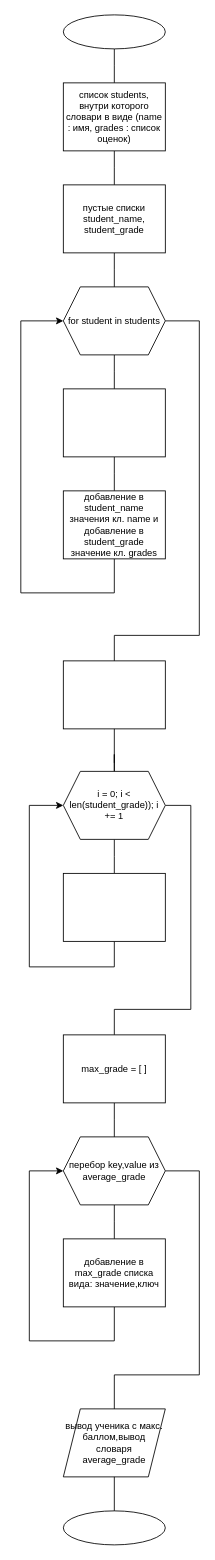
Some shapes in this 215 by 1560 pixel diagram are drawn without their labels. Here are the shapes that lost their labels. From the top down, the centre of each, then its label:
At point 113,31: "Начало".
At point 113,422: "кортеж student_data со значениями ключей name,grades".
At point 113,694: "пустой словарь average_grade = {}".
At point 113,907: "добавляем в average_grade (имя студента : средняя оценка)".
At point 113,1527: "Конец".
